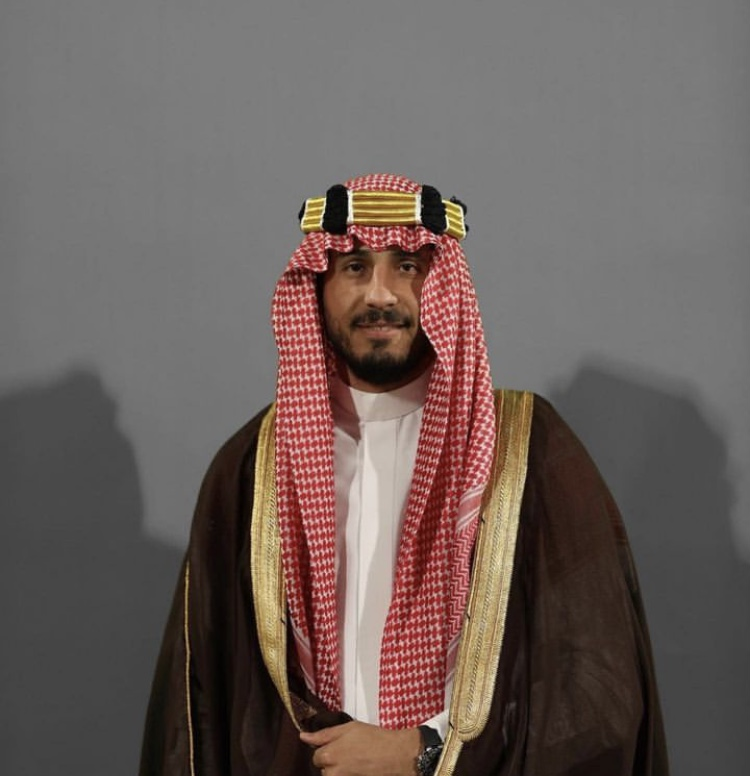Saudi_Founding_Day: (133, 167, 671, 776)
